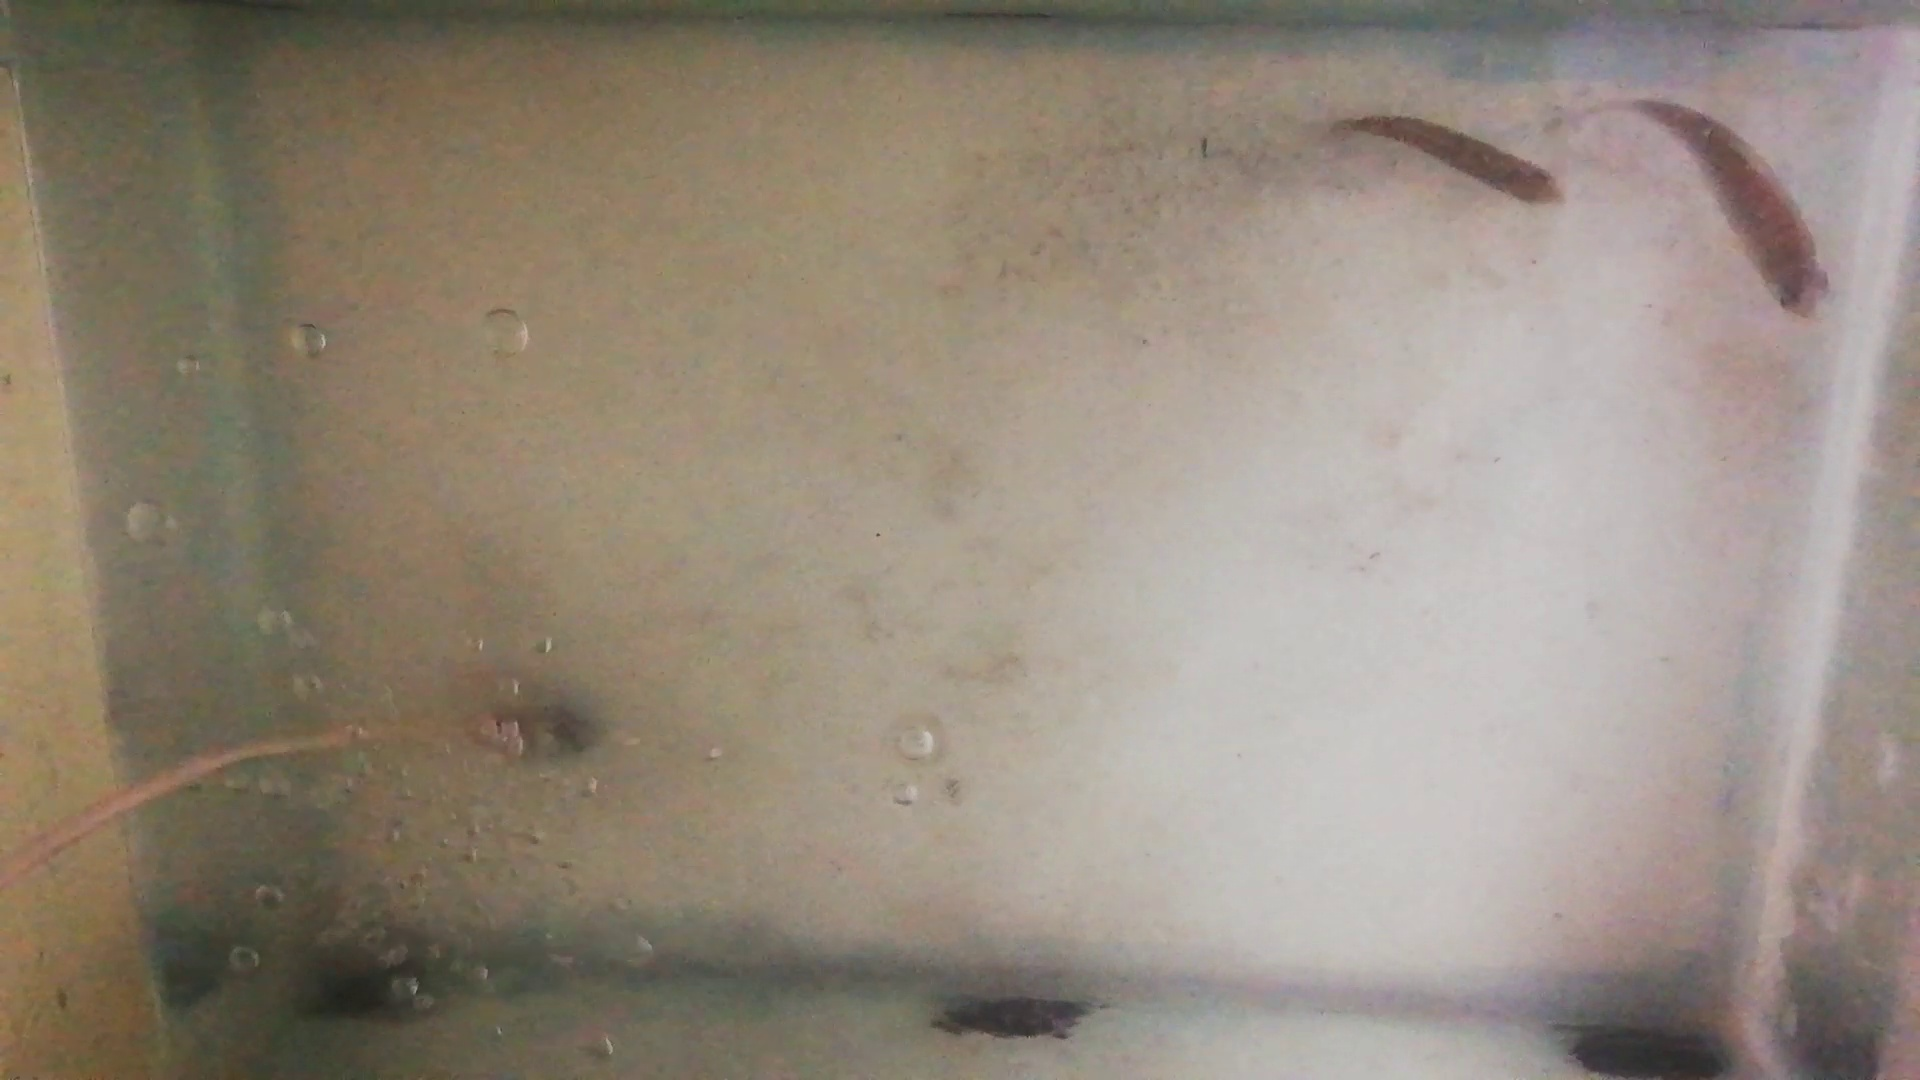fish: (1619, 95, 1830, 327), (1331, 109, 1563, 210)
